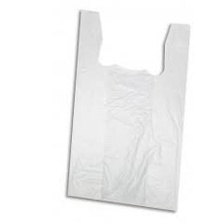plastic_bag: (59, 5, 195, 216)
